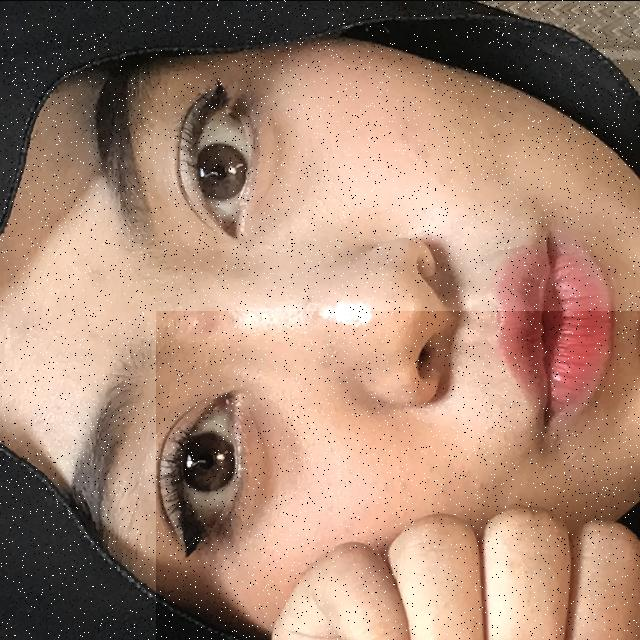sedih: (156, 310, 640, 640)
